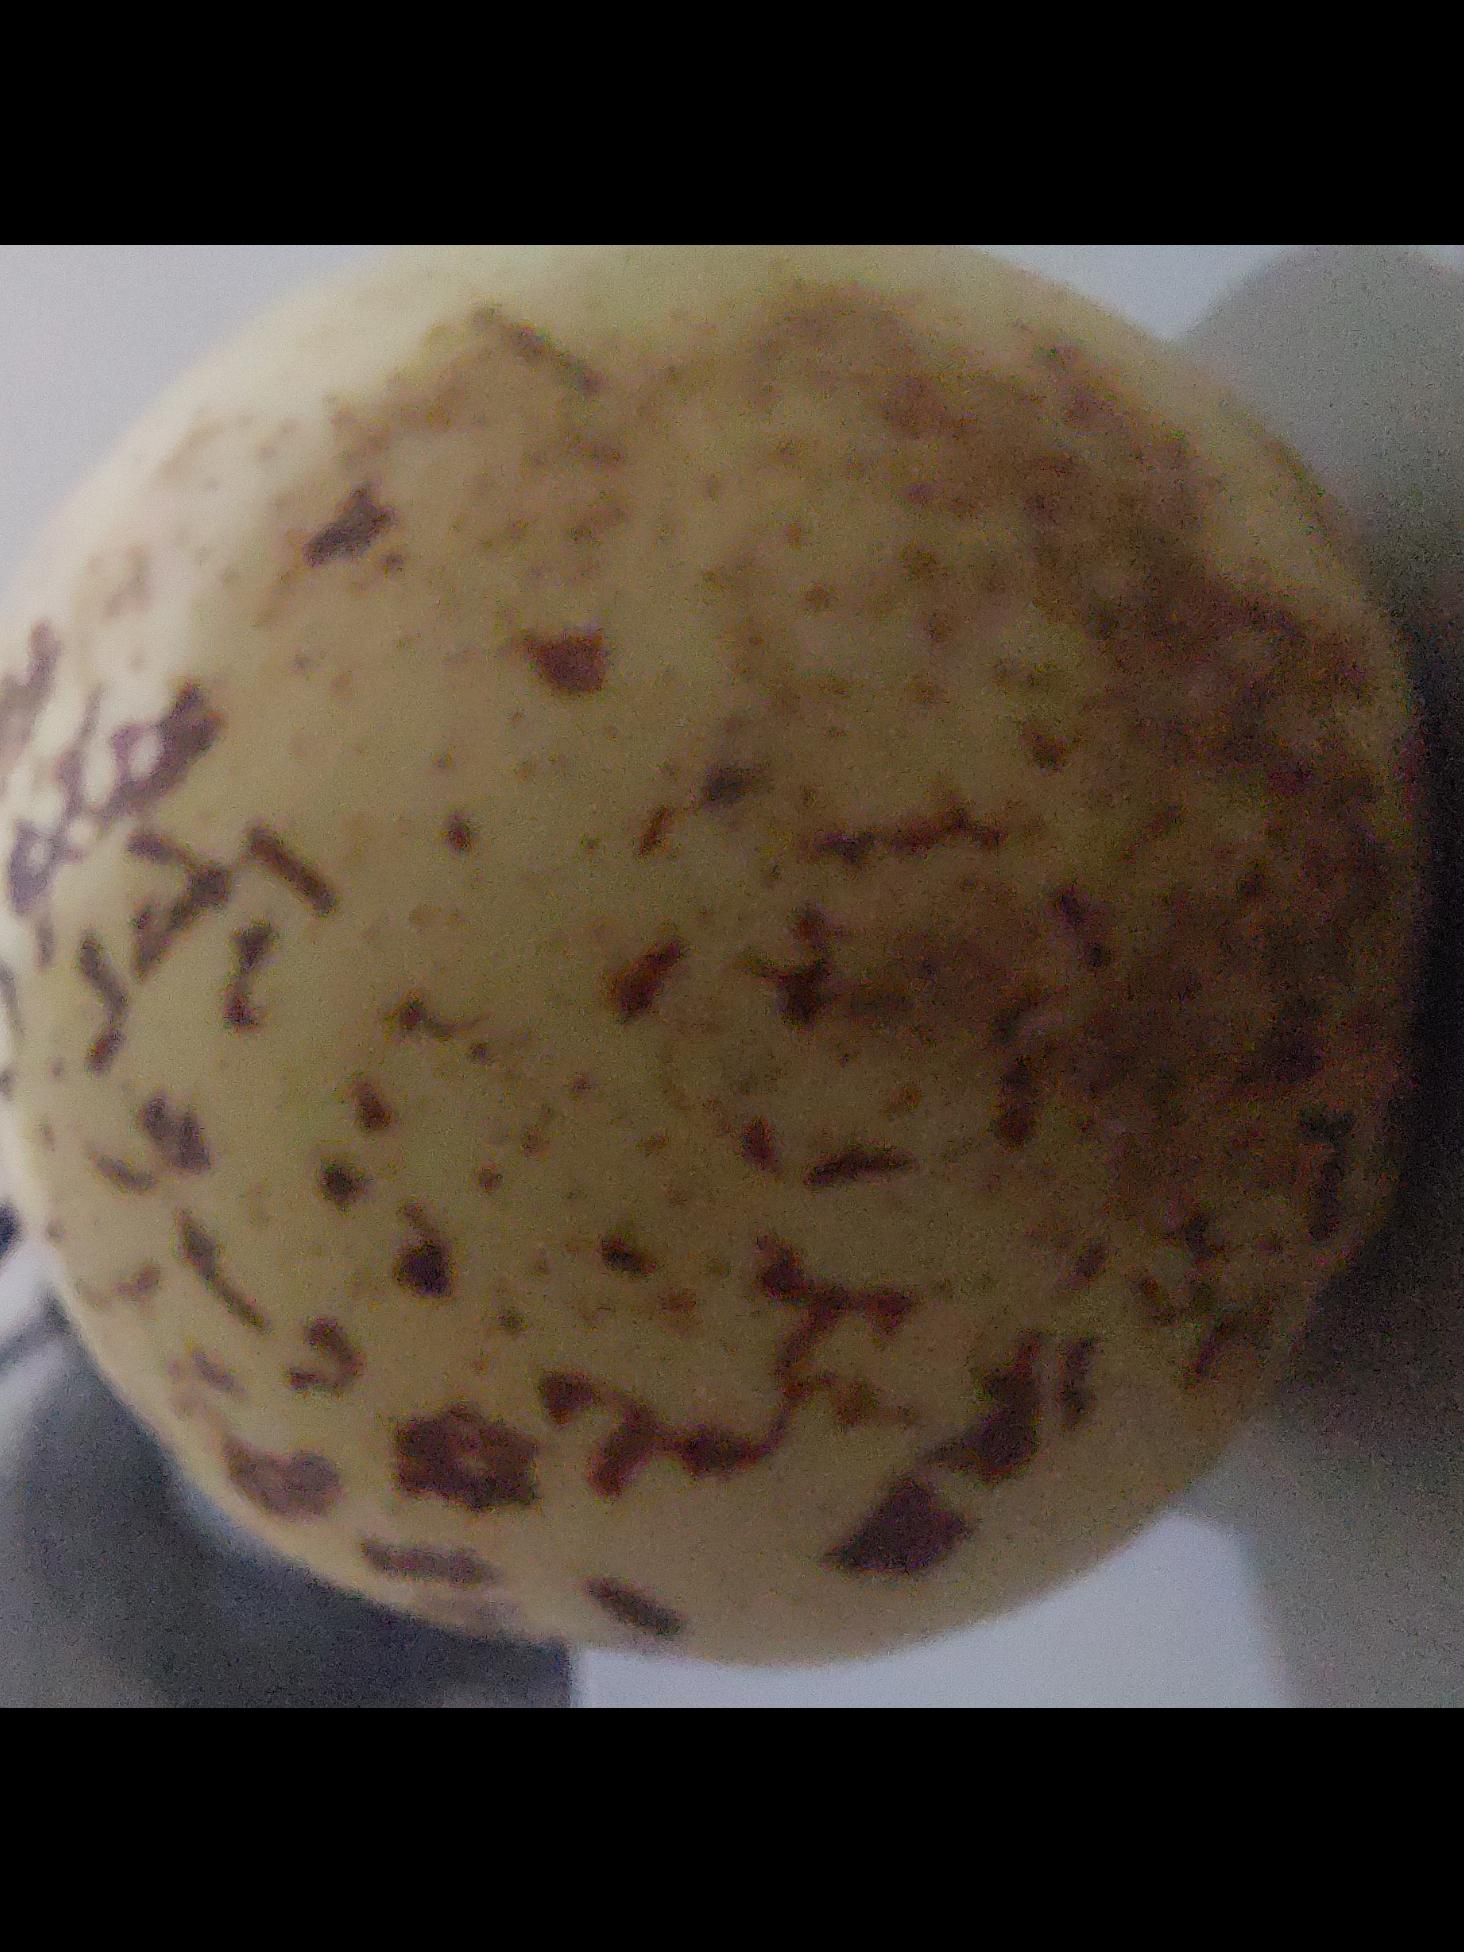Bad Pear: (0, 249, 1444, 1708)
